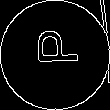P_W: (29, 35, 81, 75)
